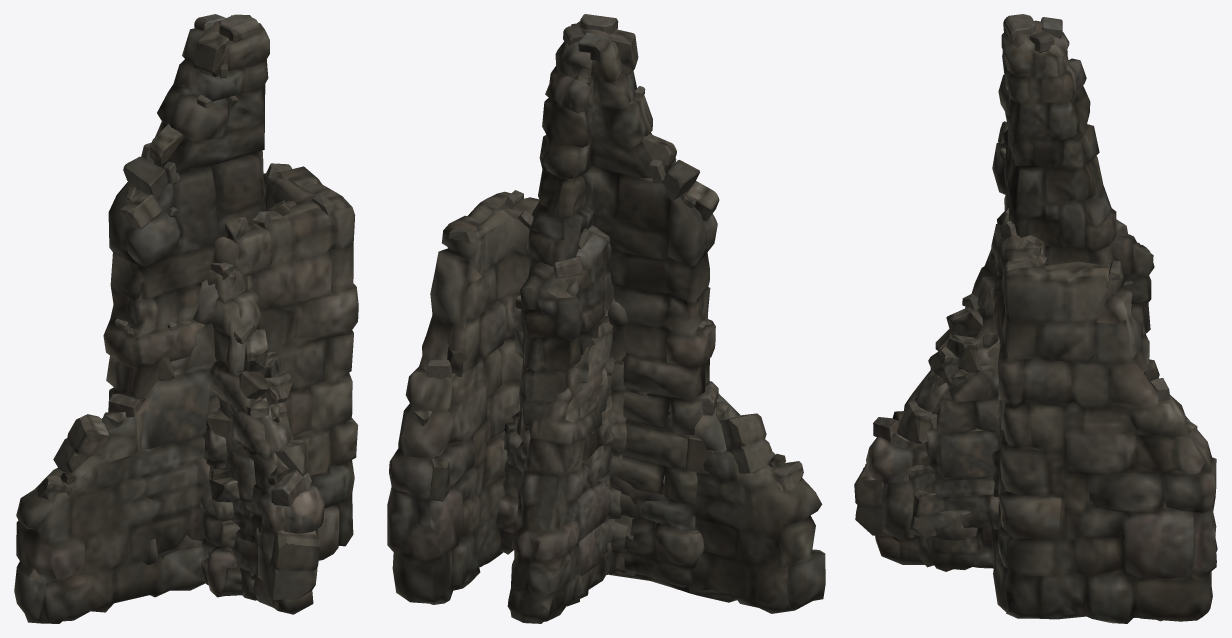
File: Wall_Ruins_Parts.fbx
3 views of the same model, side by side, from view 1: azimuth 30°, elevation 25°; view 2: azimuth 150°, elevation 25°; view 3: azimuth 270°, elevation 25° (orthographic).
Parts seen in each view (by area): view 1: Wall_Ruin_03, Wall_Ruin_02, Wall_Ruin_01, Wall_Ruin_05, Wall_Ruin_04; view 2: Wall_Ruin_03, Wall_Ruin_02, Wall_Ruin_01, Wall_Ruin_04, Wall_Ruin_05; view 3: Wall_Ruin_03, Wall_Ruin_02, Wall_Ruin_04, Wall_Ruin_01.
Part boxes in pixels (box(x1,y1,x2,y2)): Wall_Ruin_03: box(14, 163, 358, 623); Wall_Ruin_02: box(103, 14, 269, 564); Wall_Ruin_01: box(207, 262, 324, 614); Wall_Ruin_05: box(199, 385, 242, 597); Wall_Ruin_04: box(216, 352, 293, 600); Wall_Ruin_03: box(387, 190, 825, 613); Wall_Ruin_02: box(515, 14, 719, 587); Wall_Ruin_01: box(507, 299, 615, 623); Wall_Ruin_04: box(520, 225, 614, 606); Wall_Ruin_05: box(496, 301, 628, 575); Wall_Ruin_03: box(990, 207, 1217, 623); Wall_Ruin_02: box(992, 14, 1132, 315); Wall_Ruin_04: box(908, 219, 1154, 571); Wall_Ruin_01: box(854, 247, 1159, 564).
Size of what is drawn, in the model's own units: 658 by 1009 by 599.
